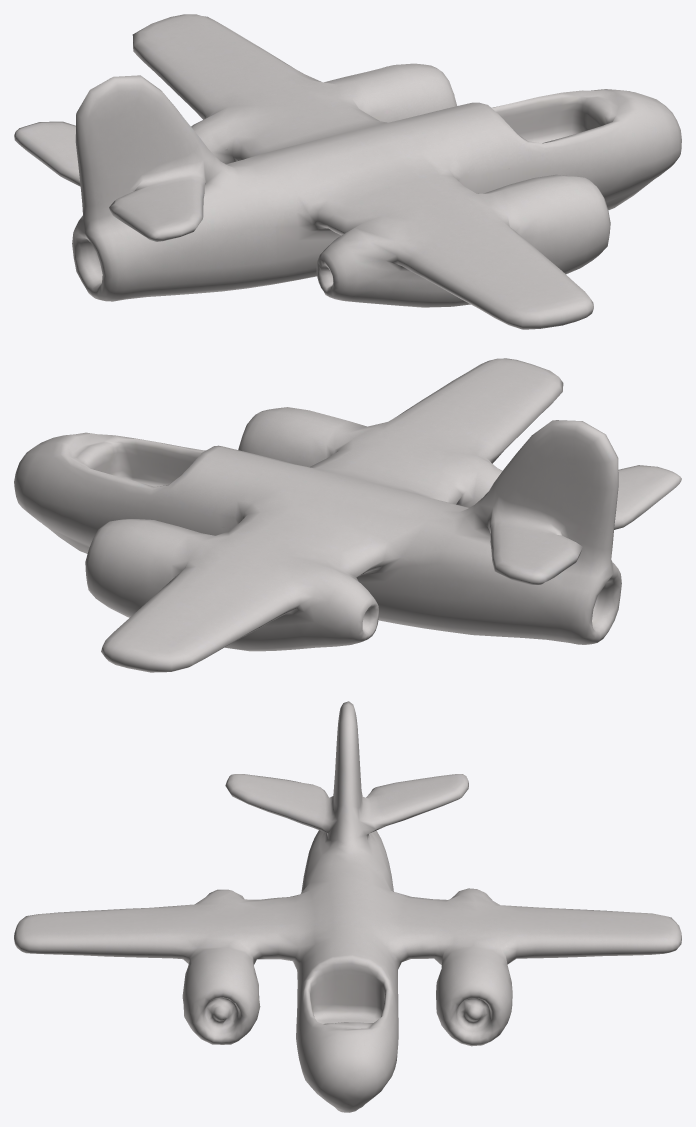
File: airplane+3d+model.fbx
3 views of the same model, one above another, from view 1: azimuth 30°, elevation 25°; view 2: azimuth 150°, elevation 25°; view 3: azimuth 270°, elevation 25° (orthographic). The views are drawn at different scales.
Visible parts, largest first — view 1: tripo_node_f581c31b; view 2: tripo_node_f581c31b; view 3: tripo_node_f581c31b.
Boxes of the visible parts, x1,y1,x2,y2 form: tripo_node_f581c31b: [14, 14, 681, 329]; tripo_node_f581c31b: [14, 358, 681, 672]; tripo_node_f581c31b: [14, 701, 681, 1112].
Bounding box in the file's own units: 83.34 × 33.09 × 97.23.
Materials: 1 (1 with a texture image).
